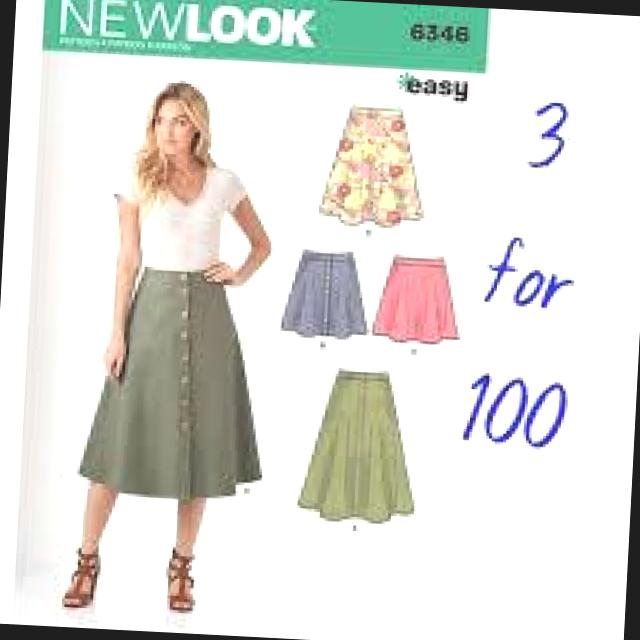Tshirt: (108, 148, 254, 278)
skirt: (76, 266, 273, 504), (295, 362, 423, 532), (315, 103, 432, 234), (280, 247, 374, 340), (372, 249, 464, 344)
